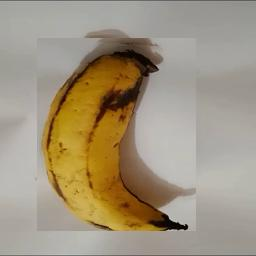Banana Semifresh: (37, 38, 196, 231)
